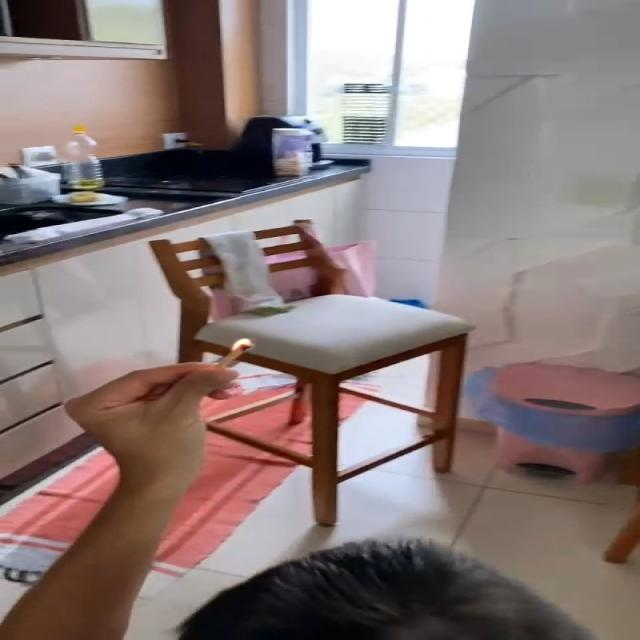fogo-ypXI: (230, 337, 254, 352)
